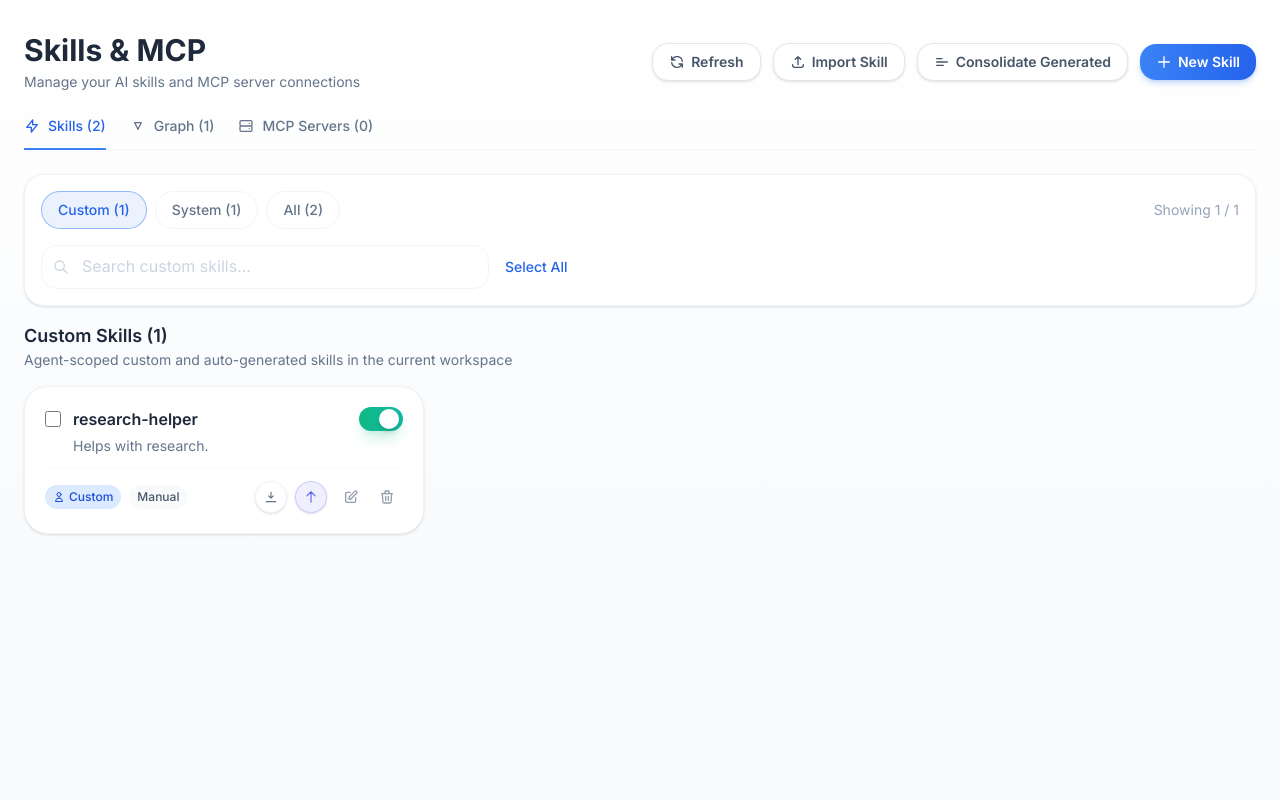
SkillsPage › loads the skill graph tab and shows graph relationships
Step 1. Click the button "Graph (1)" → (172, 133), box [130,116,214,150]
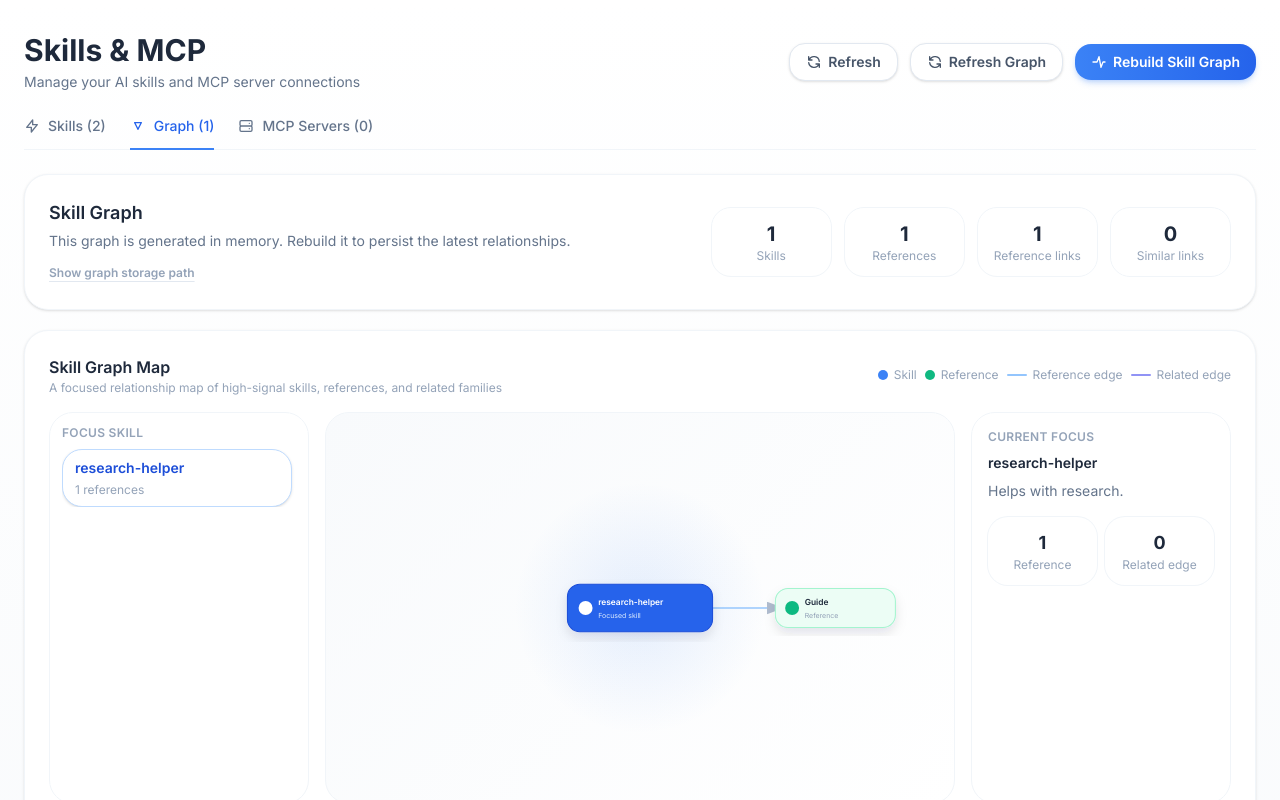
Expected: the heading "Skill Graph" is shown, [49,202,143,223]
Expected: the heading "Skill Graph Map" is shown, [49,357,170,377]
Expected: the text "research-helper" below "Focus skill" is shown, [75,459,184,476]
Step 2. Click the button "Show graph storage path" → (122, 273), box [49,265,195,281]
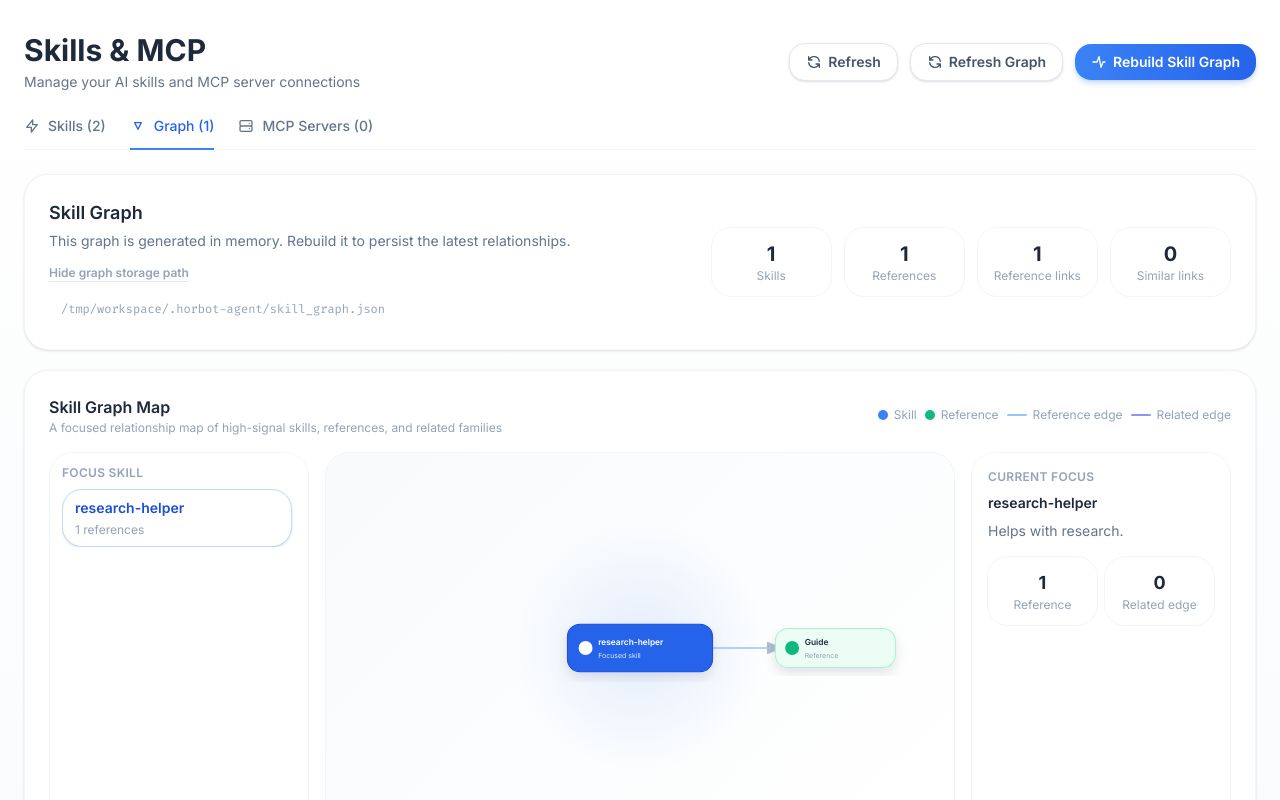
Expected: the text "/tmp/workspace/.horbot-agent/skill_graph.json" is shown, [49,293,570,325]
